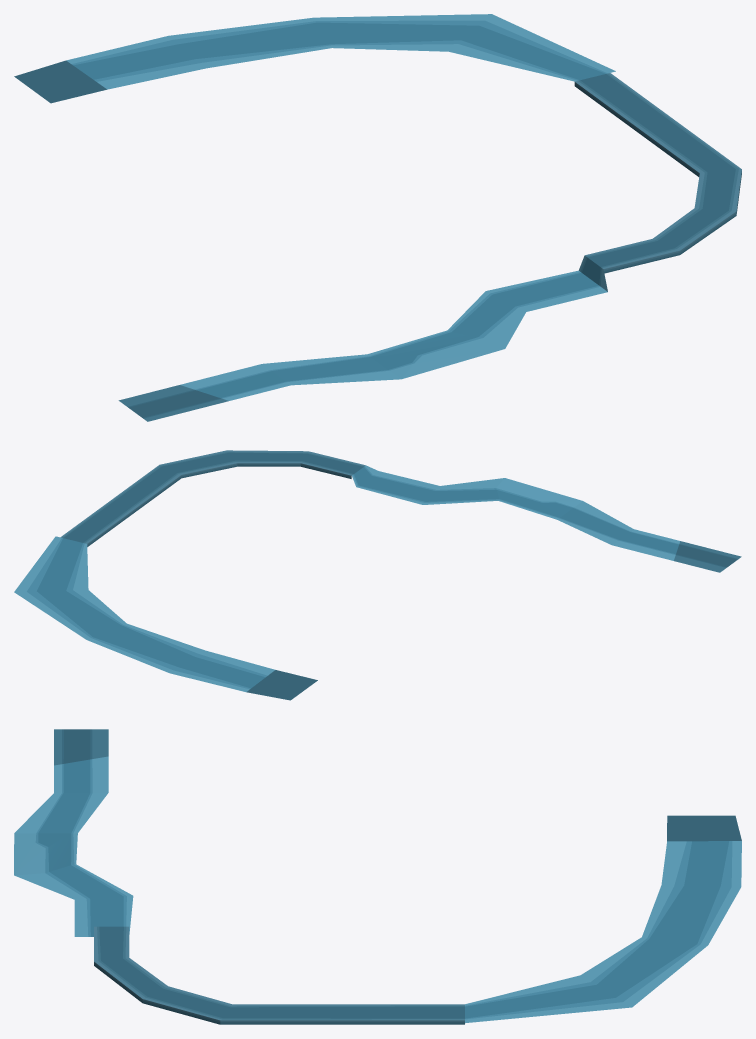
Rendered from kd_stage_135fe0_1_0_bounded.glb.
3 views of the same model, one above another, from view 1: azimuth 30°, elevation 25°; view 2: azimuth 150°, elevation 25°; view 3: azimuth 270°, elevation 25° (orthographic). The views are drawn at different scales.
Parts seen in each view (by area): view 1: kd_stage_135fe0_1_0_bounded; view 2: kd_stage_135fe0_1_0_bounded; view 3: kd_stage_135fe0_1_0_bounded.
Part boxes in pixels (x1,y1,x2,y2): kd_stage_135fe0_1_0_bounded: [14, 14, 741, 421]; kd_stage_135fe0_1_0_bounded: [14, 450, 741, 700]; kd_stage_135fe0_1_0_bounded: [14, 729, 741, 1024].
Size of the model in its own units: 41.66 by 1.18 by 40.94.
Materials: 1 (1 with a texture image).
